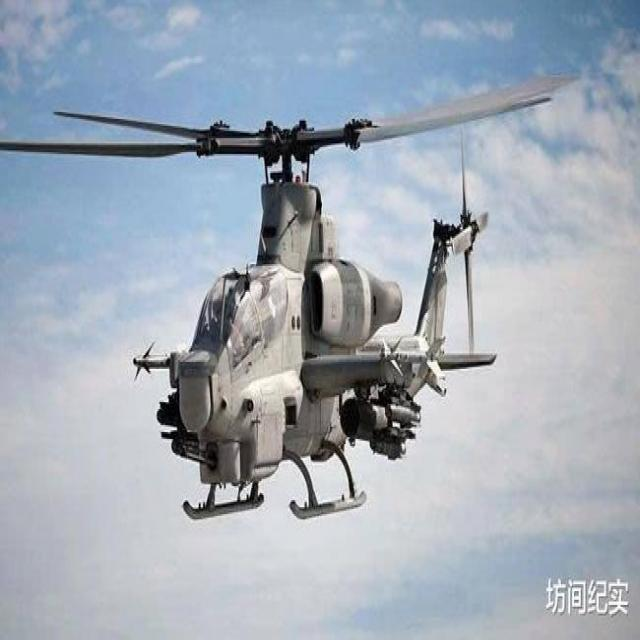MIL_HELO: (0, 81, 572, 534)
